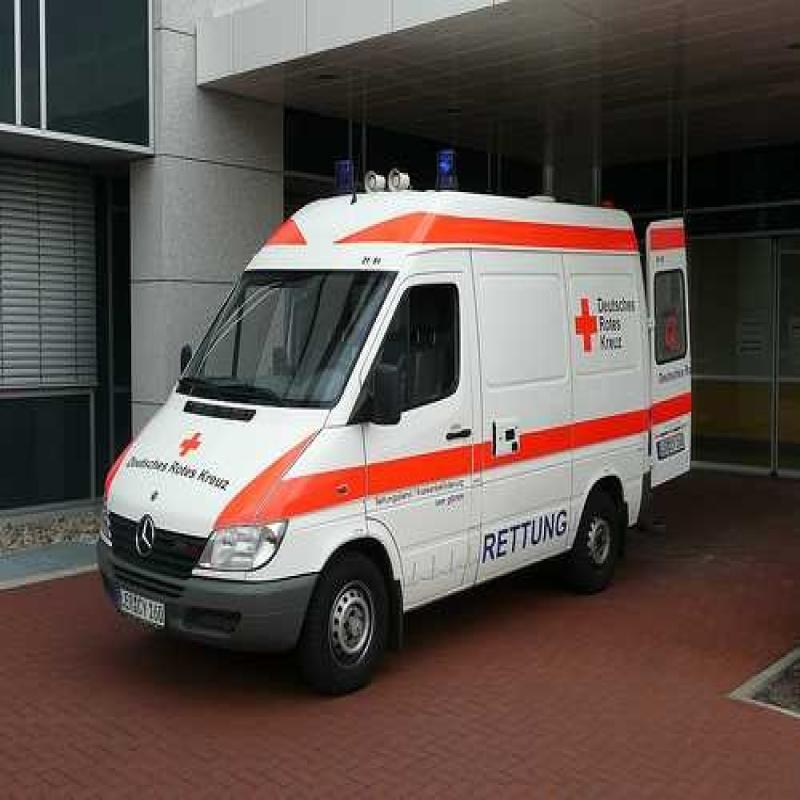AmbulanceSiren: (430, 144, 465, 206), (330, 150, 354, 198)
